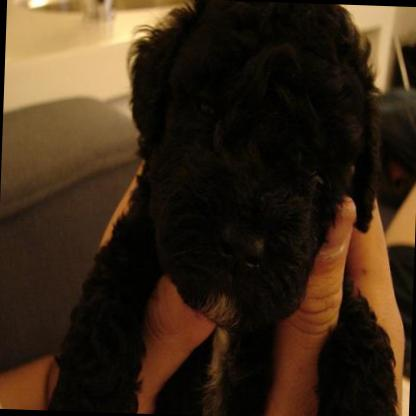toy_poodle: (49, 0, 413, 416)
